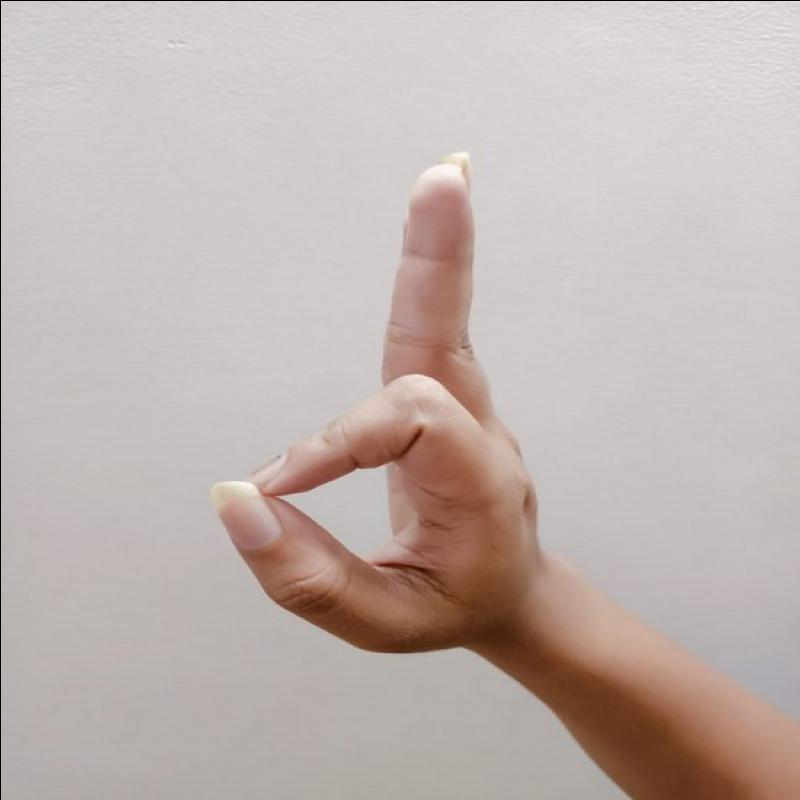Mudraakhyam: (195, 138, 569, 683)
